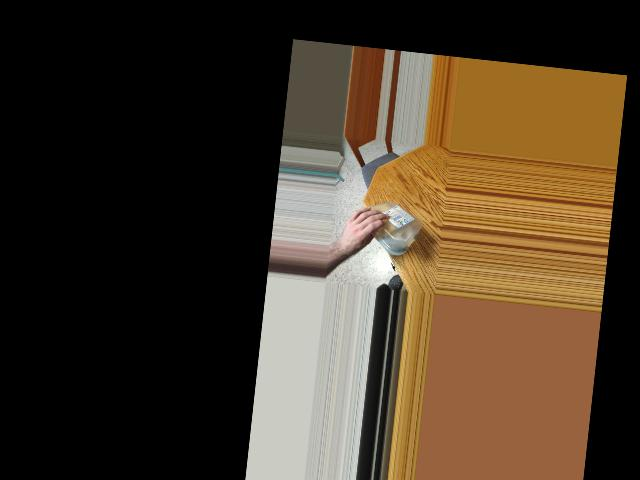cheese: (353, 197, 425, 254)
